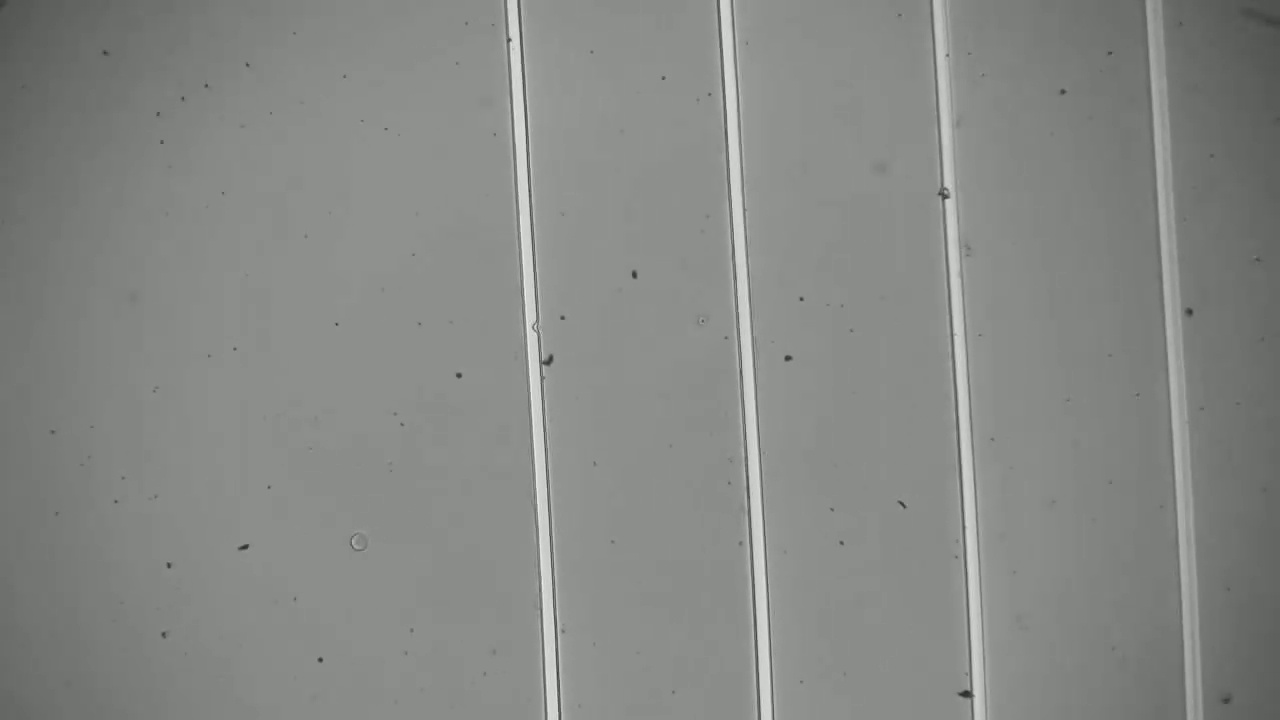edge_bite: (518, 314, 546, 340)
stains_enbedded: (930, 179, 961, 205)
